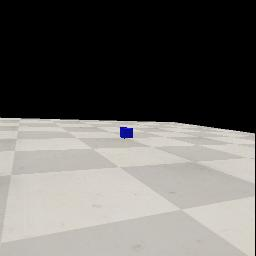box: (120, 127, 133, 139)
